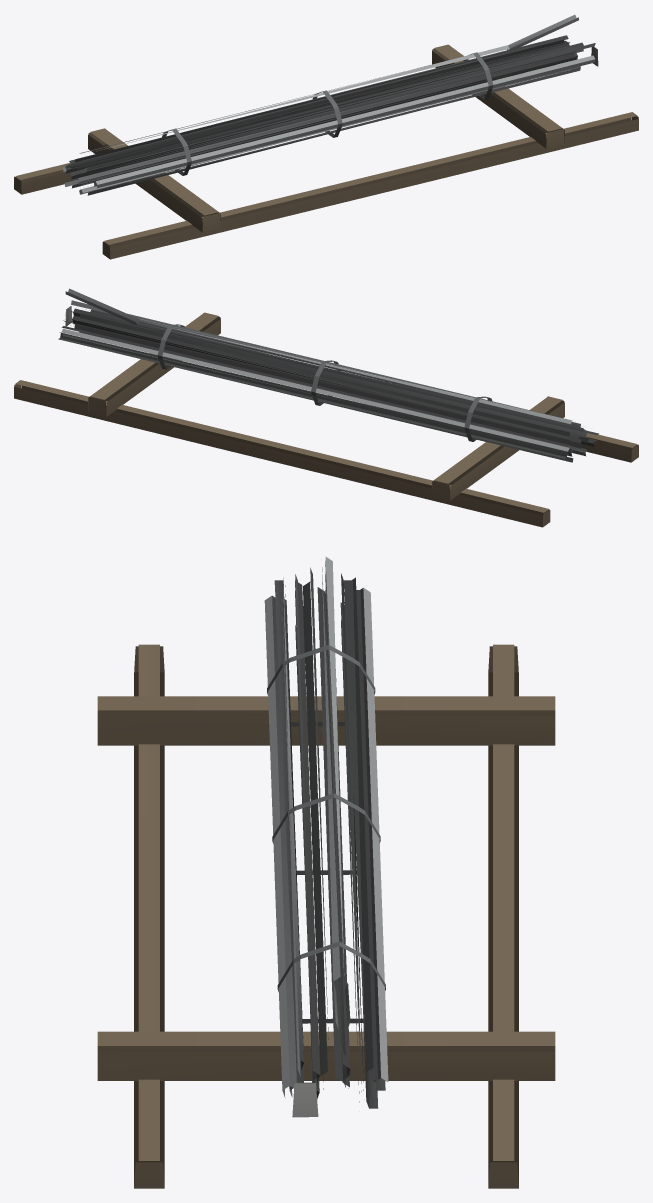
The model's file is scafstack.lod.glb.
3 views of the same model, one above another, from view 1: azimuth 30°, elevation 25°; view 2: azimuth 150°, elevation 25°; view 3: azimuth 270°, elevation 25° (orthographic). The views are drawn at different scales.
Parts seen in each view (by area): view 1: scafstack; view 2: scafstack; view 3: scafstack.
Part boxes in pixels (bbox=[...]): scafstack: bbox=[14, 14, 638, 259]; scafstack: bbox=[14, 288, 638, 527]; scafstack: bbox=[97, 556, 555, 1188].
Size of the model in its own units: 4 by 0.5701 by 1.5.
